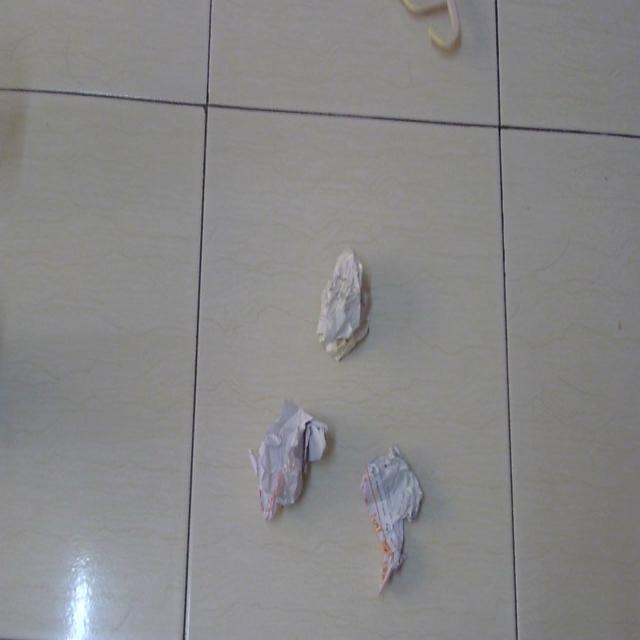paperrotation: (247, 388, 334, 522), (359, 434, 425, 593), (315, 240, 374, 363)
